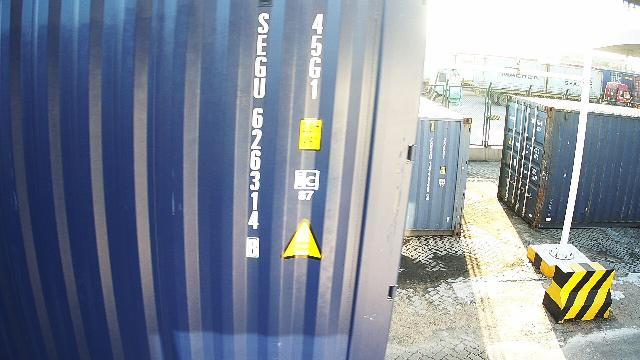1: (250, 192, 258, 210)
2: (251, 128, 263, 150)
3: (249, 170, 261, 190)
4: (247, 210, 259, 230)
6: (252, 107, 264, 129), (250, 150, 262, 170)
8: (247, 238, 260, 258)
E: (256, 34, 268, 56)
G: (255, 56, 268, 78)
S: (256, 12, 270, 34)
U: (253, 77, 267, 99)
